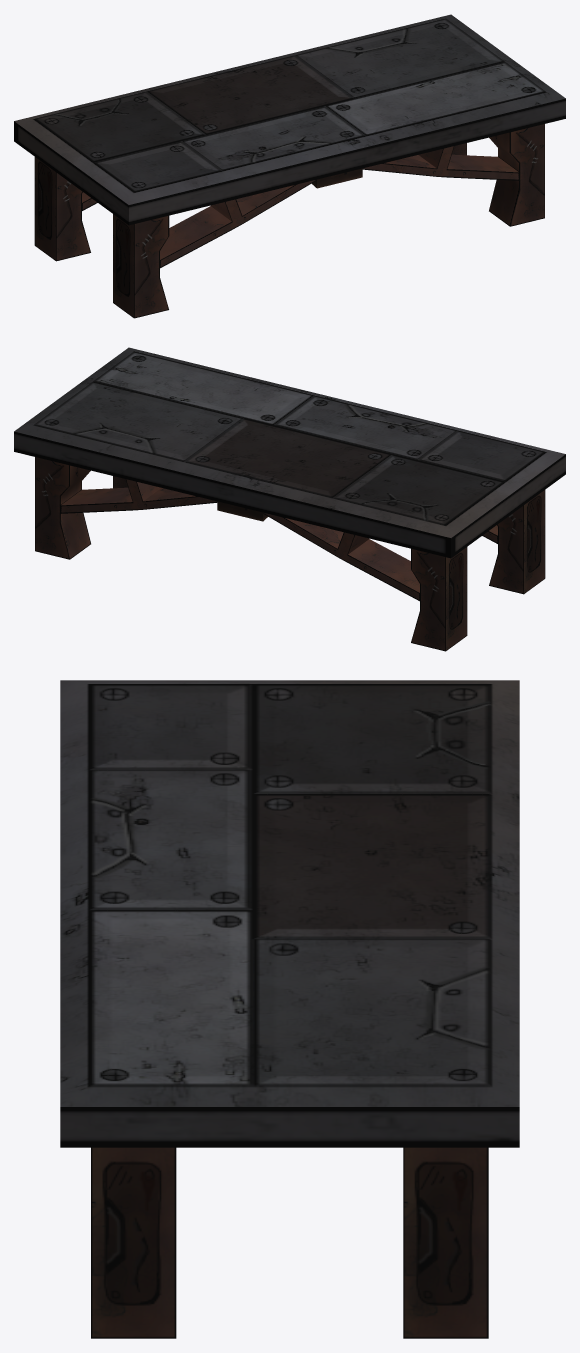
Rendered from ContstructionTable.fbx.
The picture shows the model from 3 angles, top to bottom: view 1: azimuth 30°, elevation 25°; view 2: azimuth 150°, elevation 25°; view 3: azimuth 270°, elevation 25°; orthographic projection. The views are drawn at different scales.
Visible parts, largest first — view 1: ConstructionTable; view 2: ConstructionTable; view 3: ConstructionTable.
Part boxes in pixels (x1=…): ConstructionTable: x1=14, y1=14, x2=565, y2=318; ConstructionTable: x1=14, y1=347, x2=565, y2=651; ConstructionTable: x1=60, y1=680, x2=519, y2=1338.
Size of the model in its own units: 398 by 110 by 181.
Materials: 1 (1 with a texture image).
